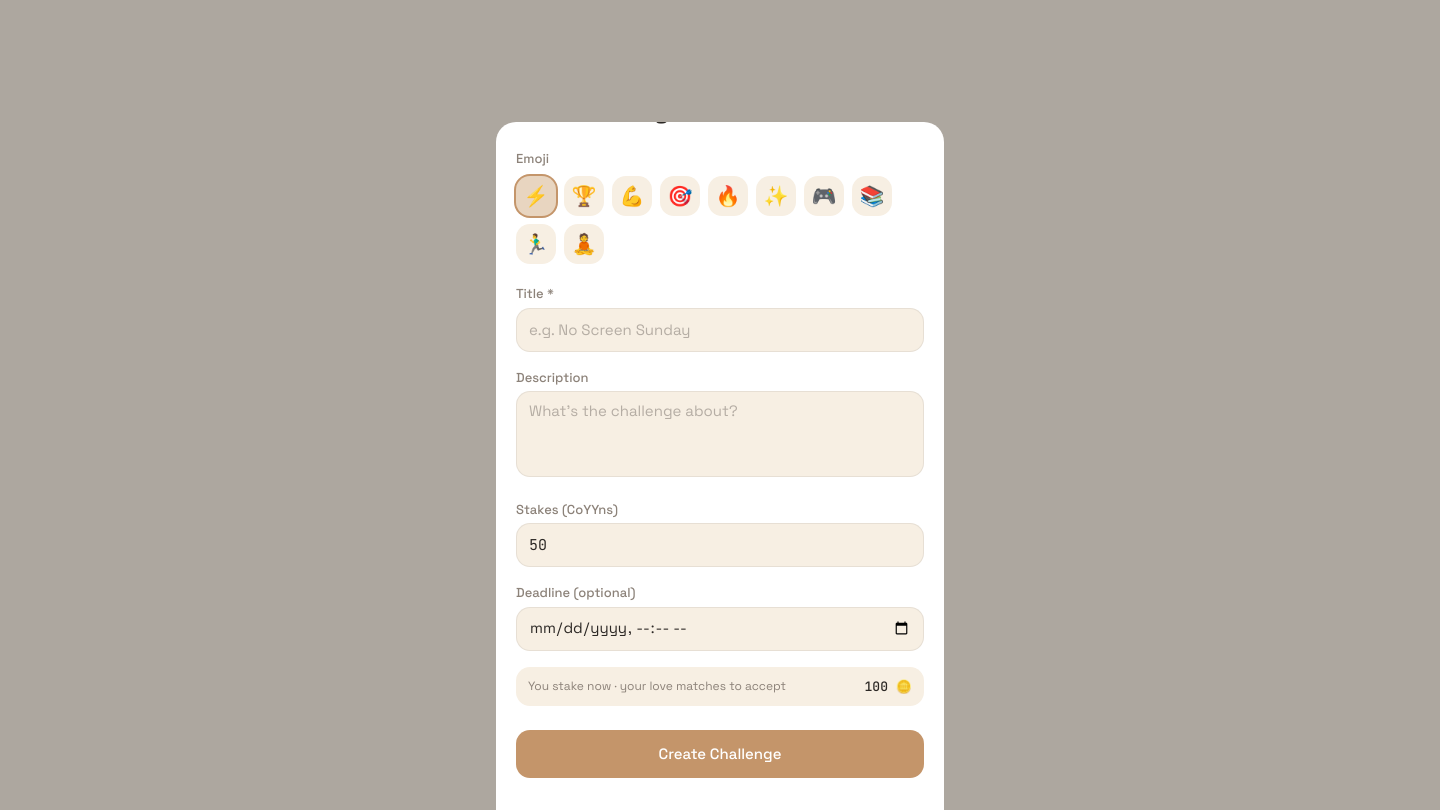
it: CreateChallengeForm › shows title error and does not create when submitting empty title
(page scrolled)
Click the button with test id "challenge-submit": (720, 754) 516,730 -> 924,778
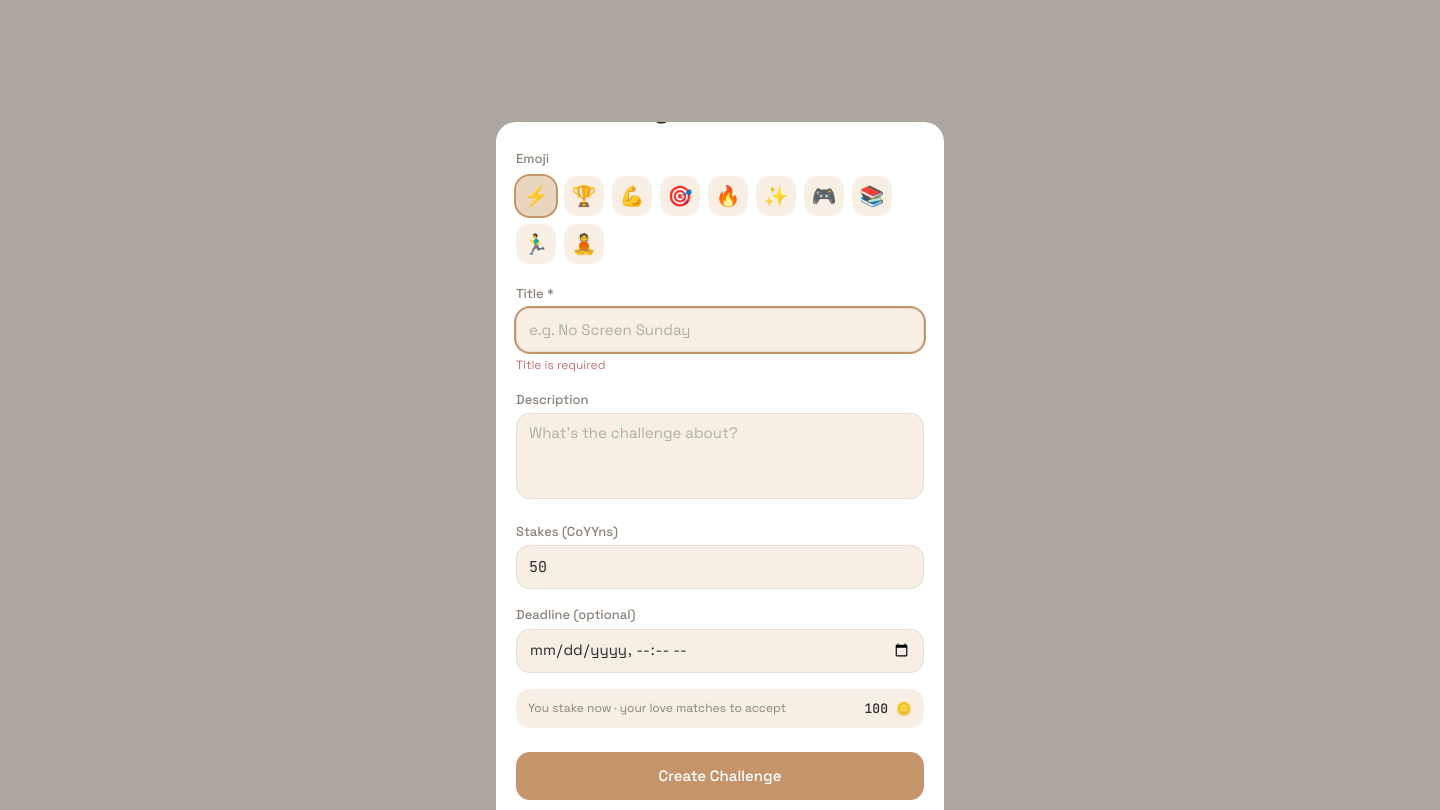
Check: the text "Title is required" is shown, box 516,356 -> 606,372
